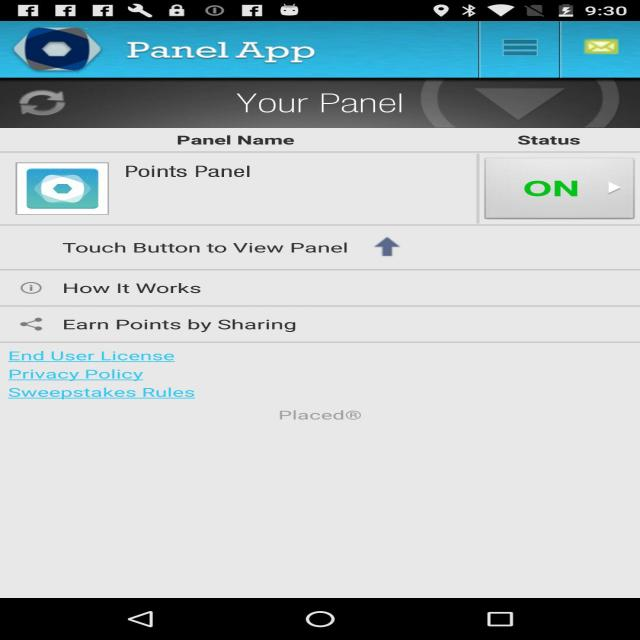icon: (0, 32, 119, 66), (500, 29, 548, 64), (576, 33, 633, 56), (18, 92, 64, 112)
image: (0, 22, 631, 73), (0, 77, 623, 123), (7, 158, 113, 216)
text: (0, 343, 210, 398), (62, 230, 370, 261), (125, 33, 341, 67), (222, 83, 412, 120), (56, 314, 315, 338), (52, 279, 224, 307), (506, 170, 636, 207), (256, 406, 380, 438), (115, 164, 281, 186), (174, 131, 308, 148), (506, 131, 590, 149)
